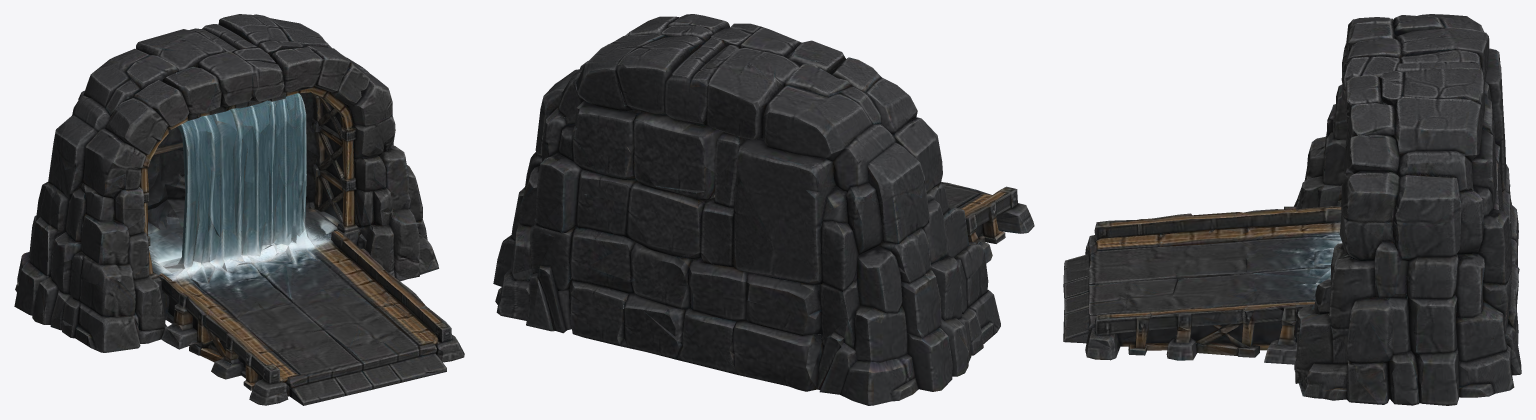
File: stunt-waterfall-portal.glb
3 views of the same model, side by side, from view 1: azimuth 30°, elevation 25°; view 2: azimuth 150°, elevation 25°; view 3: azimuth 270°, elevation 25° (orthographic). The views are drawn at different scales.
Size of the model in its own units: 1.9 by 1.11 by 1.81.
1 material, 1 textured.
